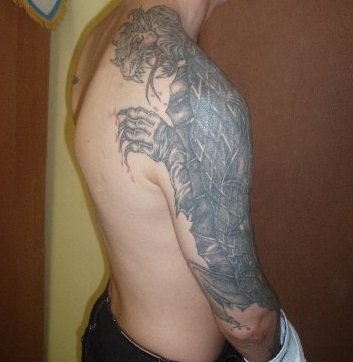tatu6_drakon: (86, 7, 304, 341)
